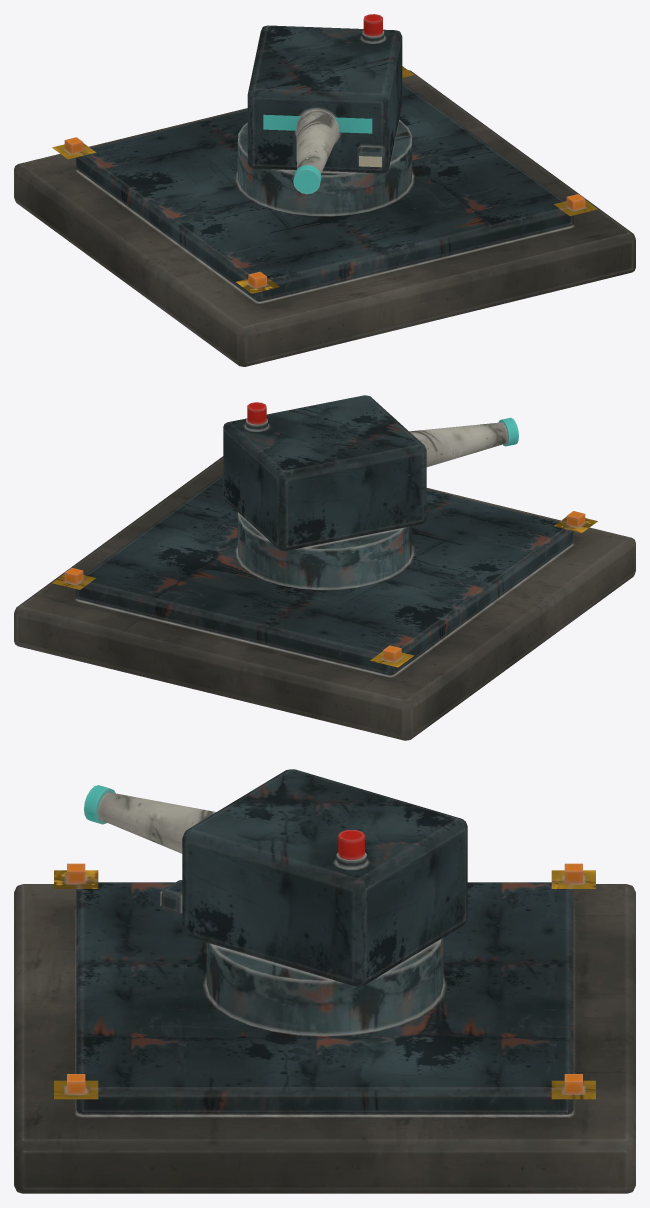
Rendered from beam_laser.glb.
3 views of the same model, one above another, from view 1: azimuth 30°, elevation 25°; view 2: azimuth 150°, elevation 25°; view 3: azimuth 270°, elevation 25° (orthographic). The views are drawn at different scales.
Visible parts, largest first — view 1: te_beam_laser; view 2: te_beam_laser; view 3: te_beam_laser.
Boxes of the visible parts, bbox=[...] form: te_beam_laser: bbox=[14, 14, 635, 366]; te_beam_laser: bbox=[14, 395, 635, 740]; te_beam_laser: bbox=[14, 769, 635, 1193].
Bounding box in the file's own units: 0.84 × 0.4008 × 0.84.
Materials: 1 (1 with a texture image).
